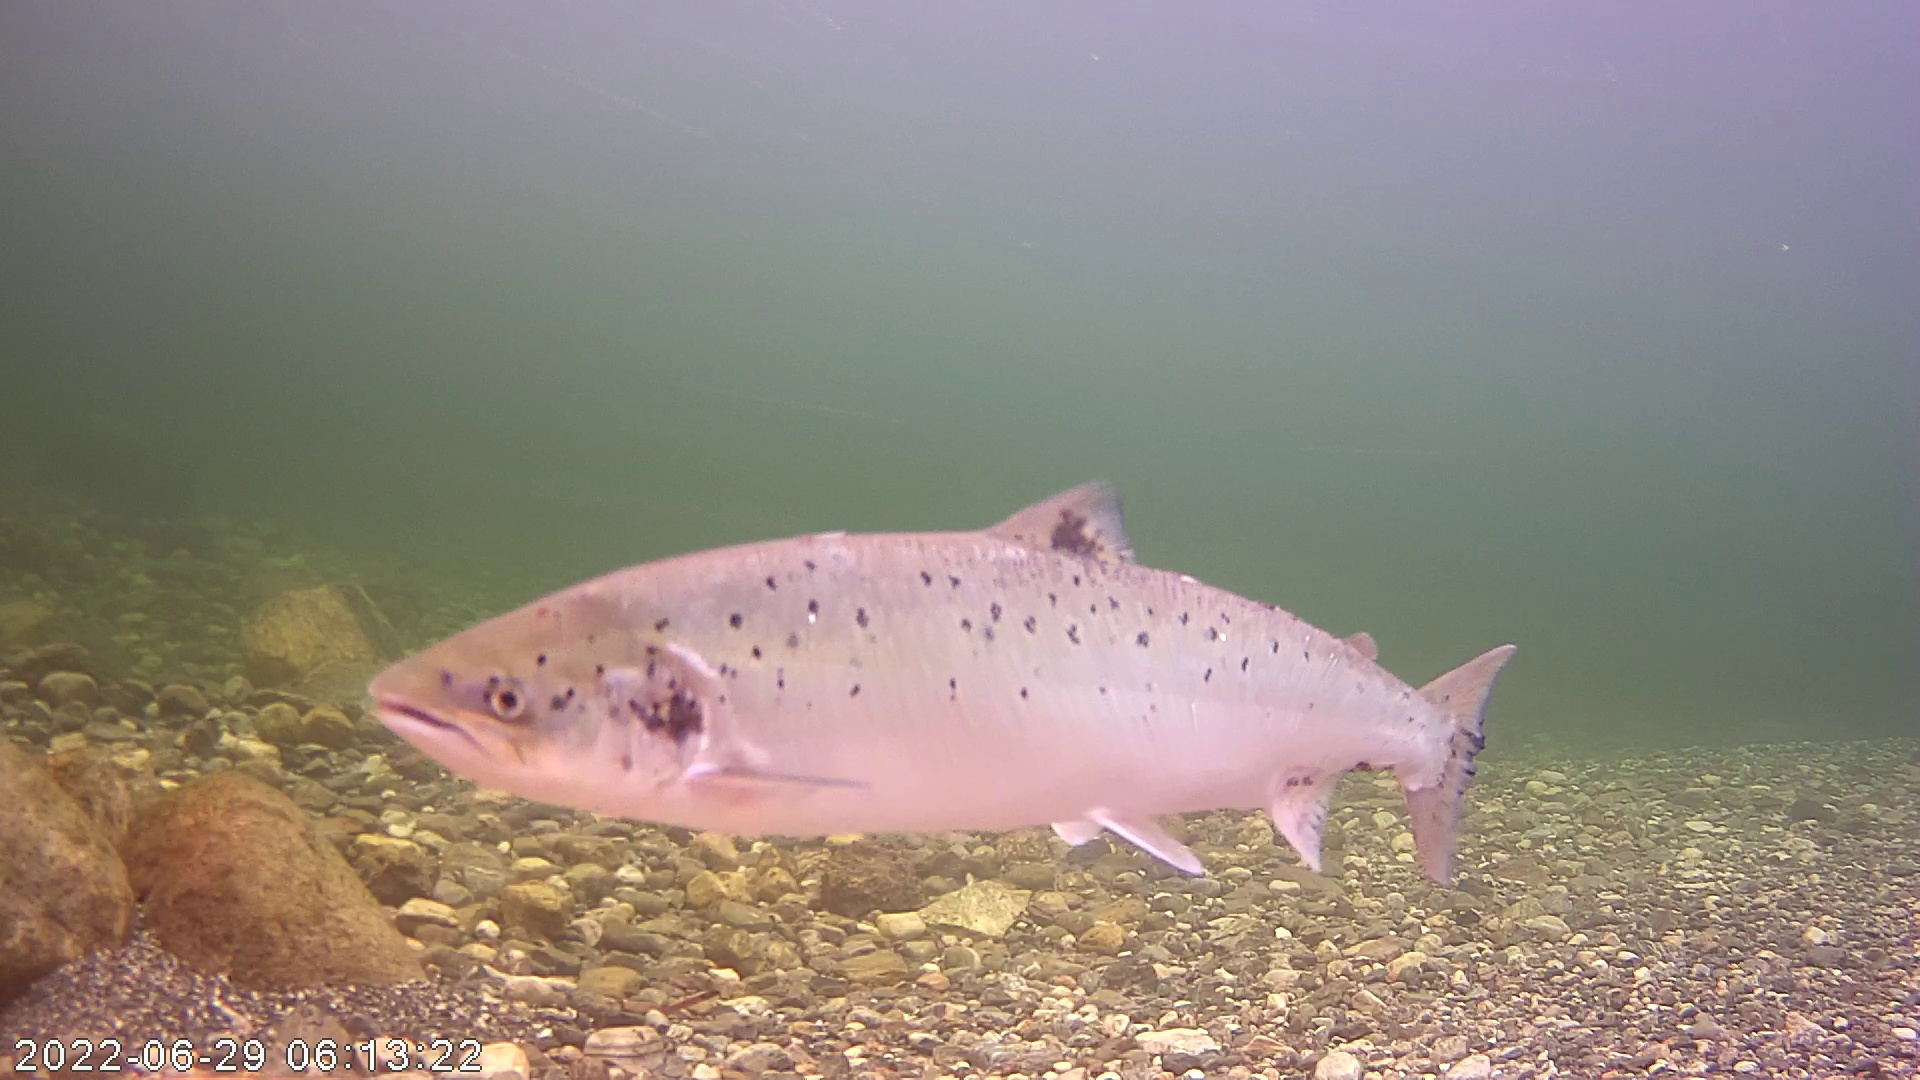salmon: (364, 433, 1524, 885)
